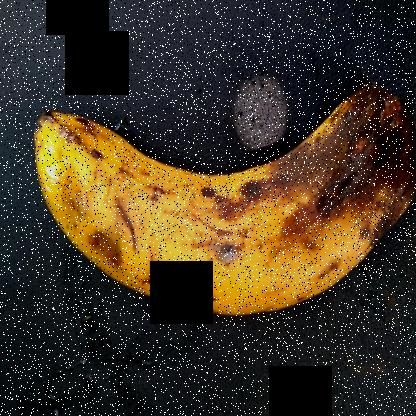rotten: (16, 34, 416, 339)
